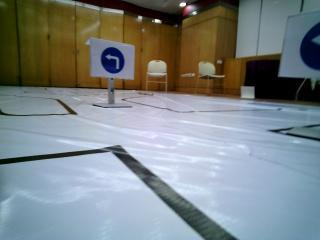left: (93, 40, 137, 77)
